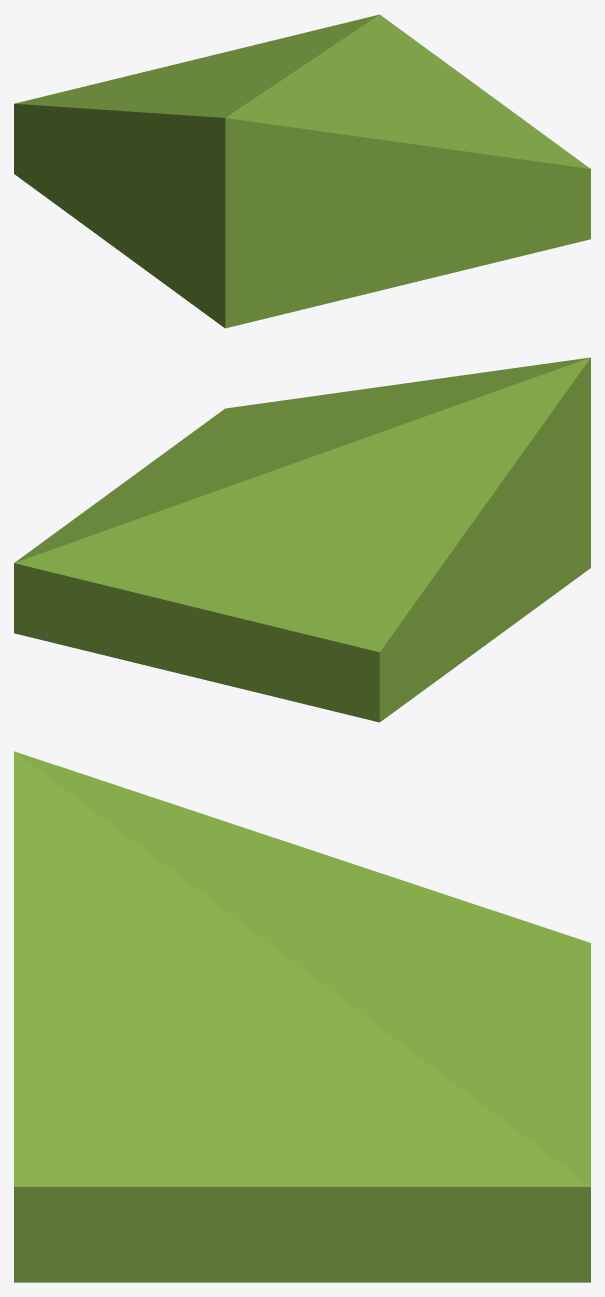
File: roadtile_151.glb
3 renders of one model, top to bottom at view 1: azimuth 30°, elevation 25°; view 2: azimuth 150°, elevation 25°; view 3: azimuth 270°, elevation 25°, orthographic. The views are drawn at different scales.
Parts seen in each view (by area): view 1: Mesh1 Group1 Model; view 2: Mesh1 Group1 Model; view 3: Mesh1 Group1 Model.
Boxes of the visible parts, x1,y1,x2,y2 form: Mesh1 Group1 Model: (14,14,590,328); Mesh1 Group1 Model: (14,357,590,722); Mesh1 Group1 Model: (14,751,590,1282).
Bounding box in the file's own units: 3 × 1.65 × 3.
